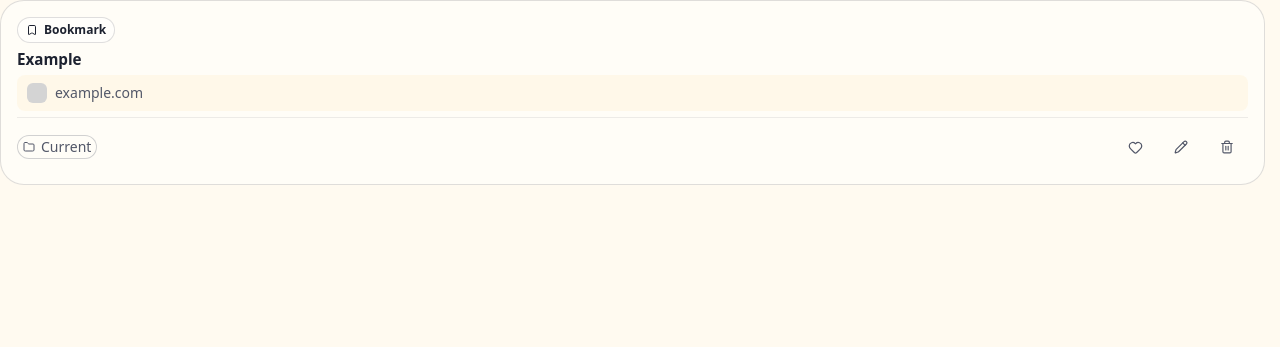
Test: BookmarkCard › changes collection when Safari moves focus during a tap
Click the button "Current" at (57, 147), box top-left (17, 135), bottom-right (97, 159)
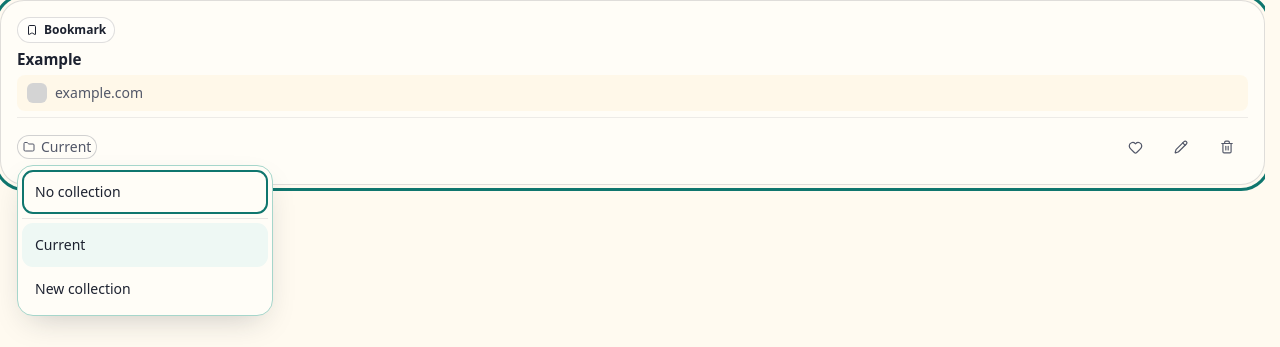
Press the mouse on the menu item "New collection" at (145, 289), box top-left (22, 267), bottom-right (268, 311)
Click the menu item "New collection" at (145, 289), box top-left (22, 267), bottom-right (268, 311)
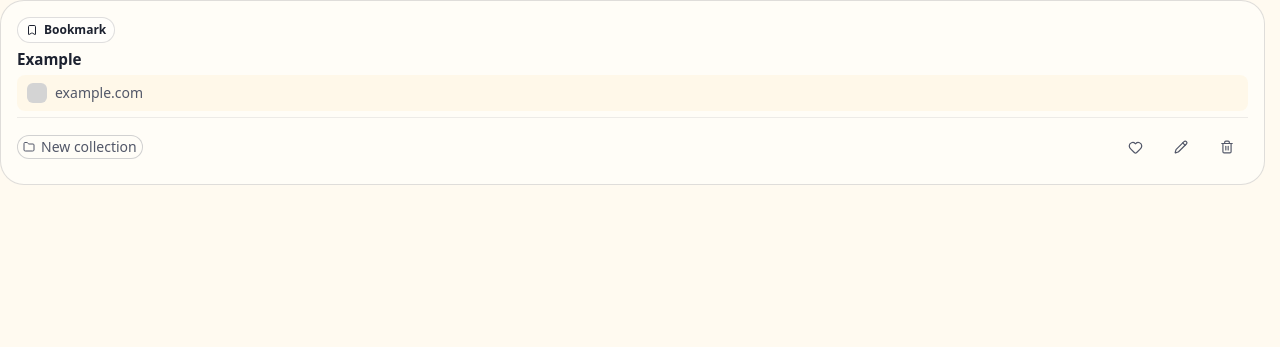
Expected: the text "New collection" is shown, top-left (41, 137), bottom-right (137, 157)
Expected: the text "Current" is gone
